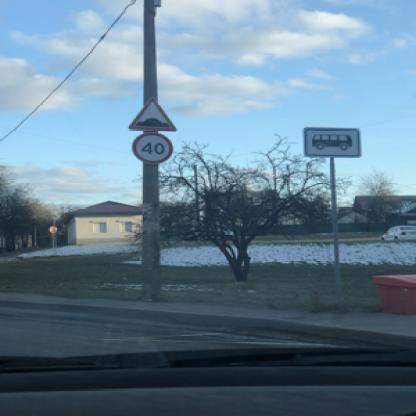speedlimit: (129, 131, 171, 163)
